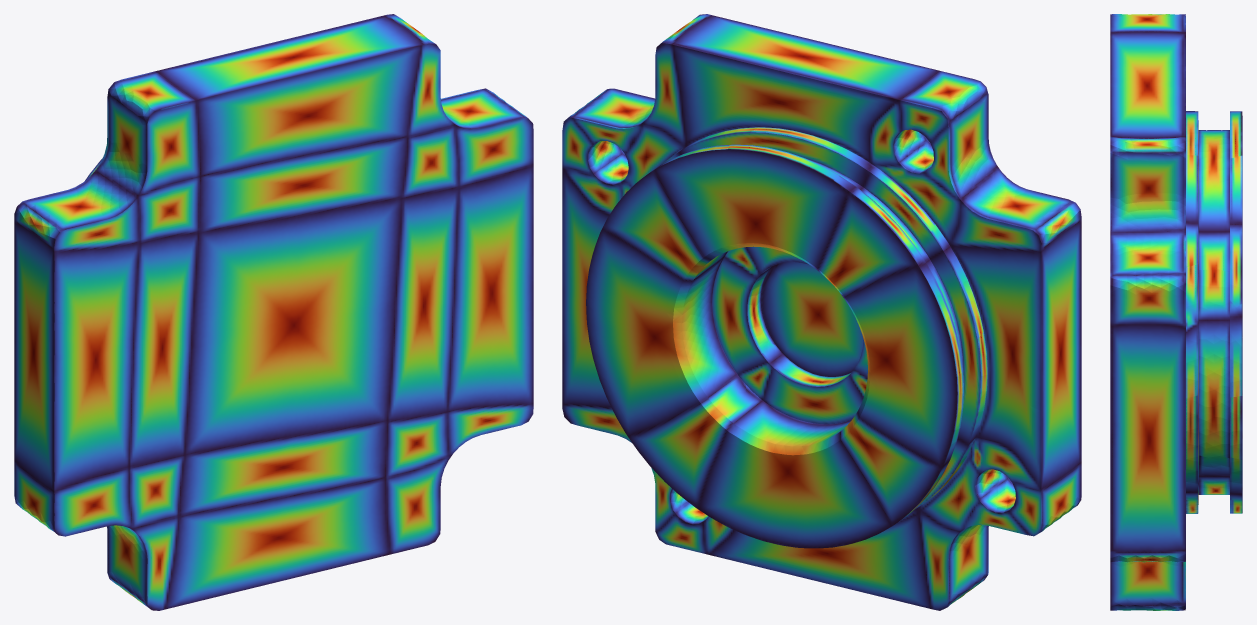
The model's file is gen2.glb.
3 views of the same model, side by side, from view 1: azimuth 30°, elevation 25°; view 2: azimuth 150°, elevation 25°; view 3: azimuth 270°, elevation 25° (orthographic). The views are drawn at different scales.
Parts seen in each view (by area): view 1: Node; view 2: Node; view 3: Node.
Boxes of the visible parts, box(x1,y1,x2,y2) form: Node: box(14, 14, 533, 610); Node: box(562, 14, 1081, 610); Node: box(1110, 14, 1242, 610).
Bounding box in the file's own units: 82.52 × 82.52 × 21.01.
Materials: 1 (1 with a texture image).
